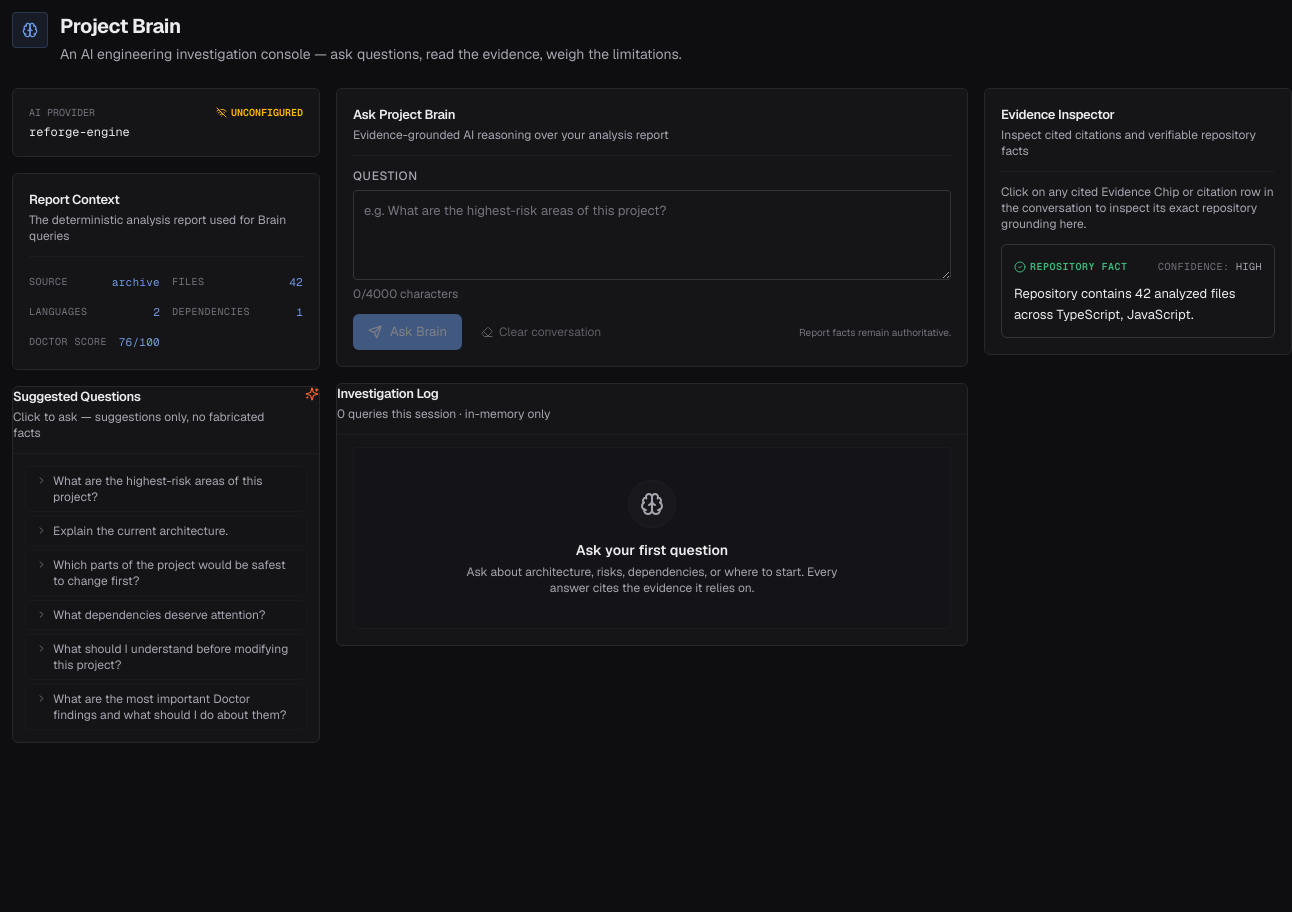
Test: Project Brain › submits a typed question on button click
In the text box labelled "Question": coordinates (652, 235) [353,190,951,280], type "Explain the current architecture"
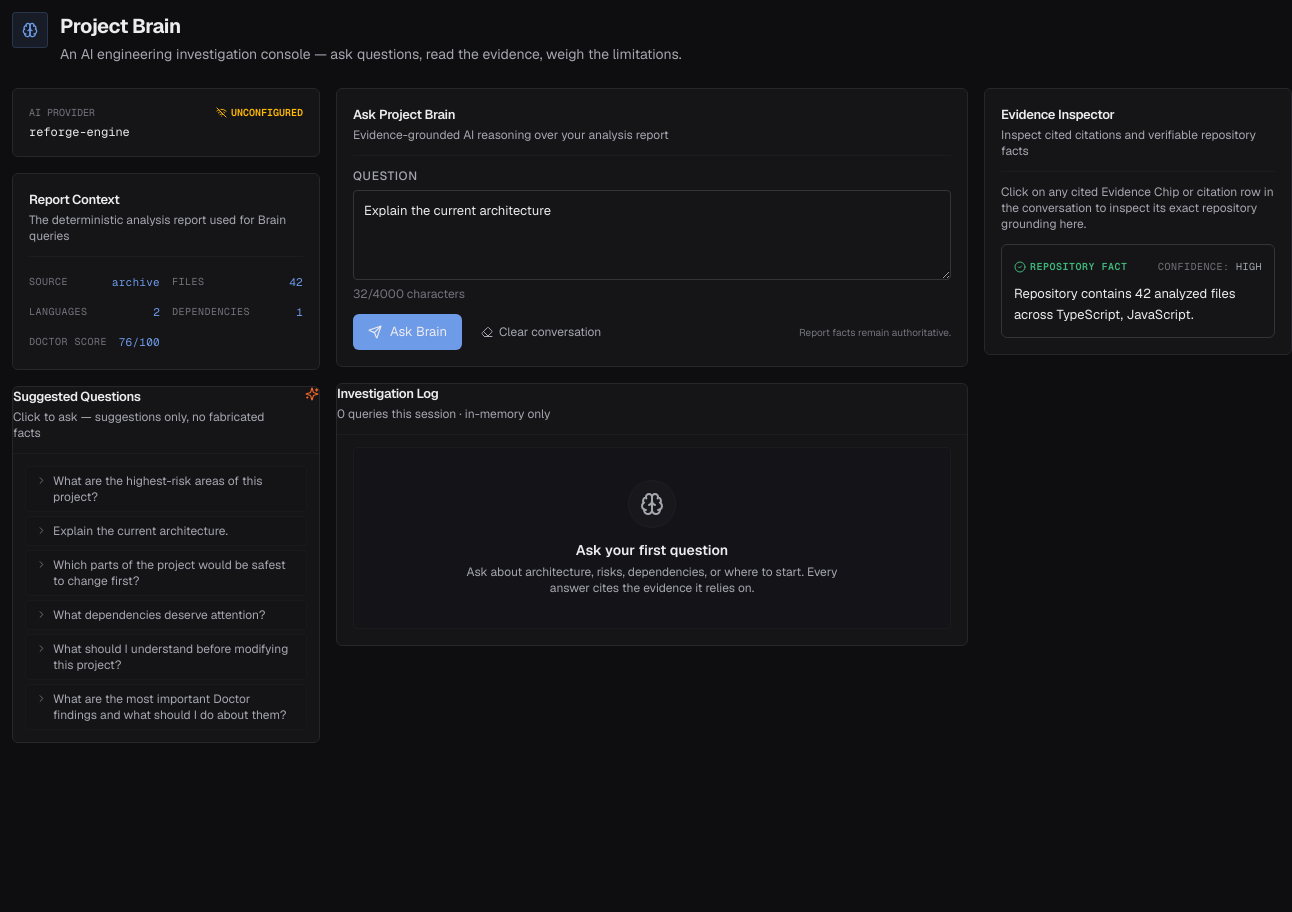
Click the button "Ask Brain": coordinates (408, 332) [353,314,462,350]
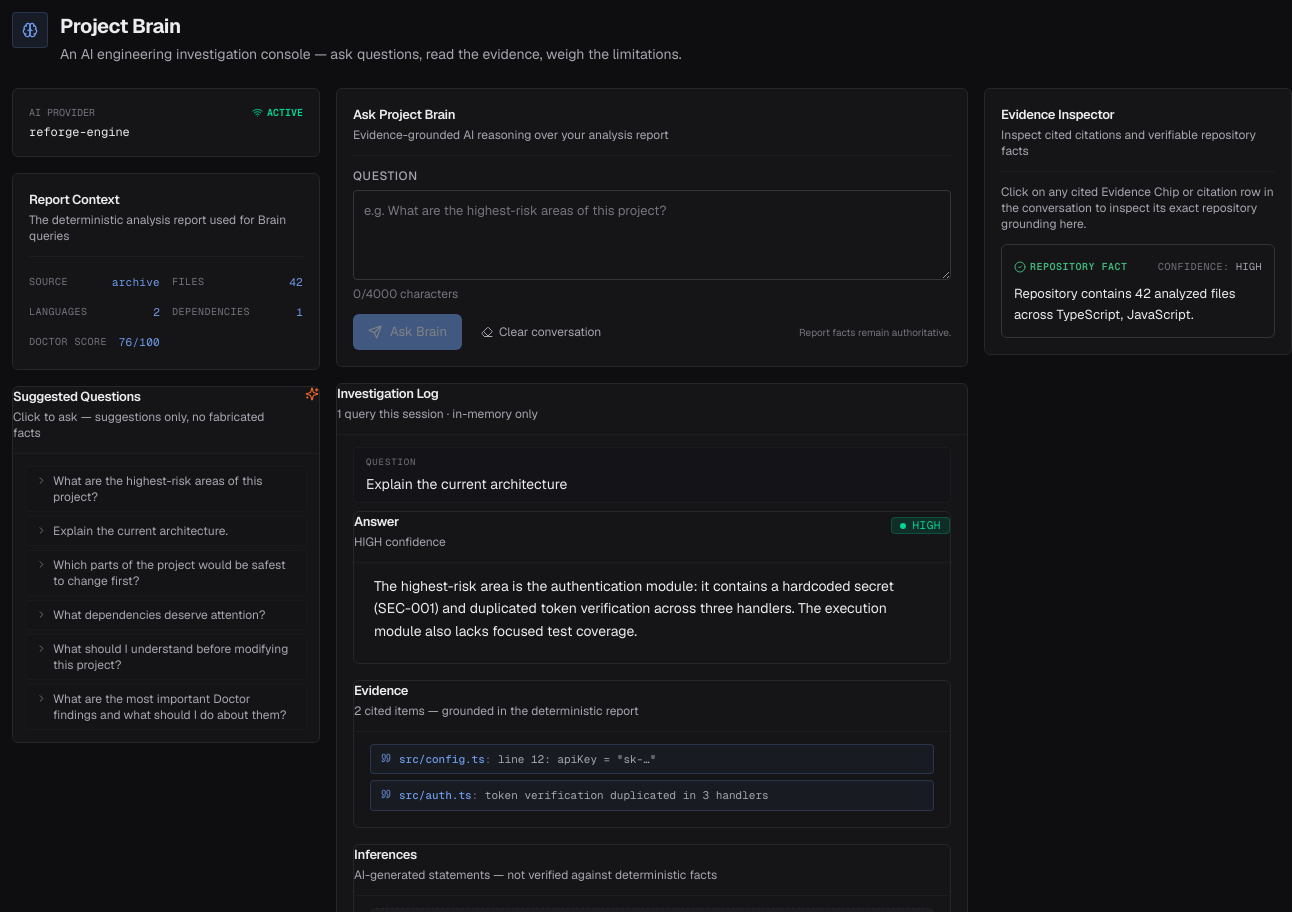
Check: the text "Explain the current architecture" is shown, box [366,474,567,492]
